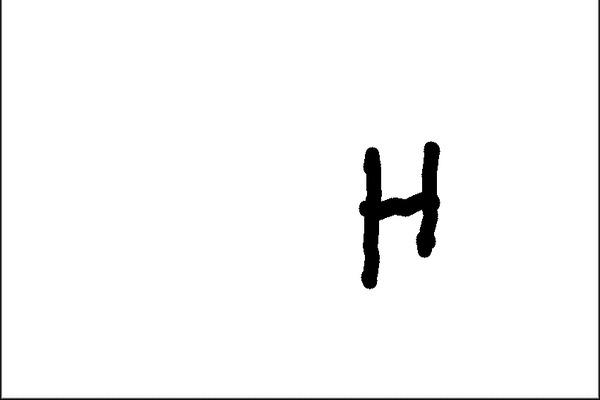H: (350, 134, 449, 294)
